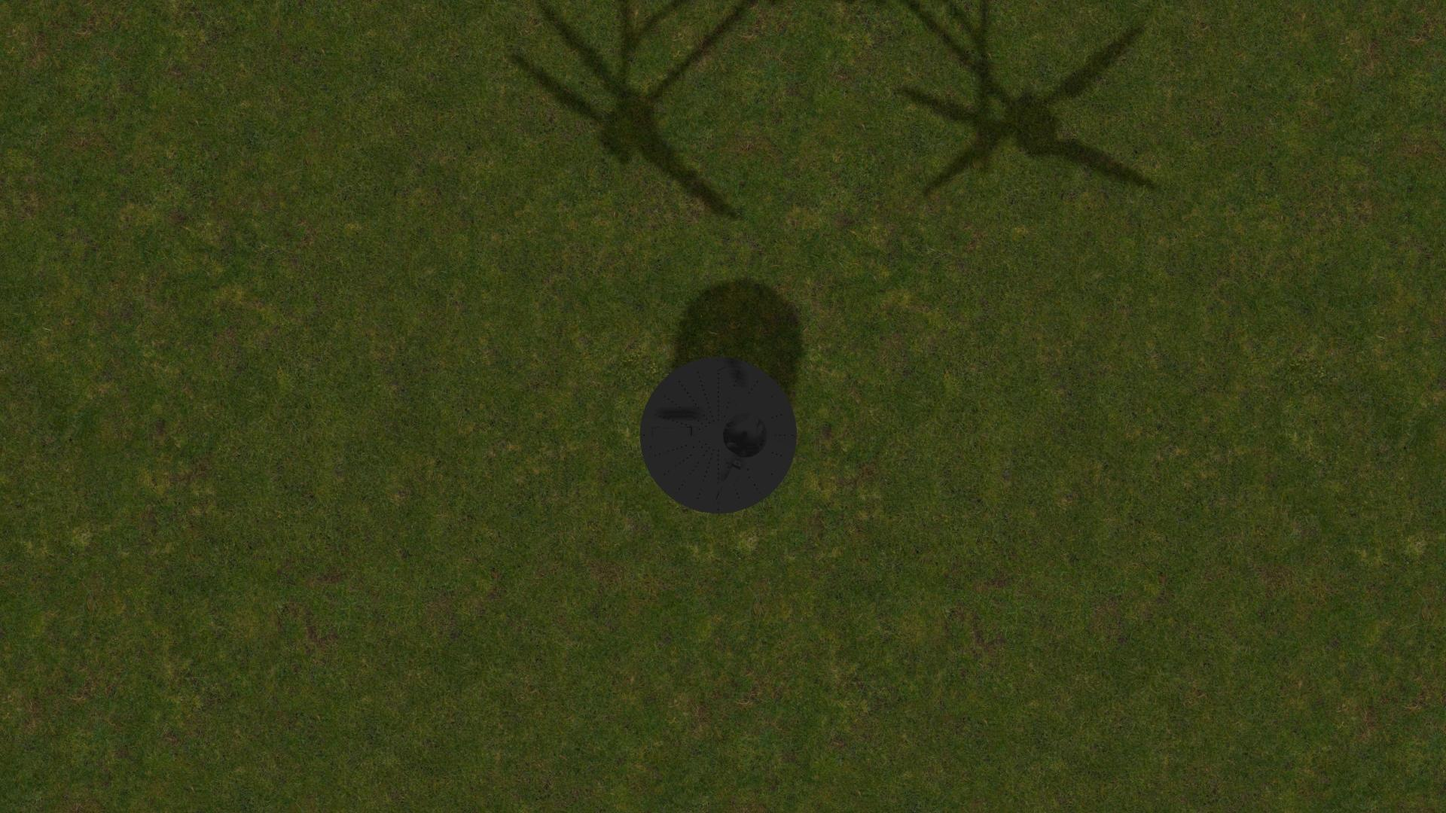alca: (715, 362, 744, 410), (714, 459, 742, 507), (648, 427, 697, 438)
armadilha: (641, 357, 797, 514)
